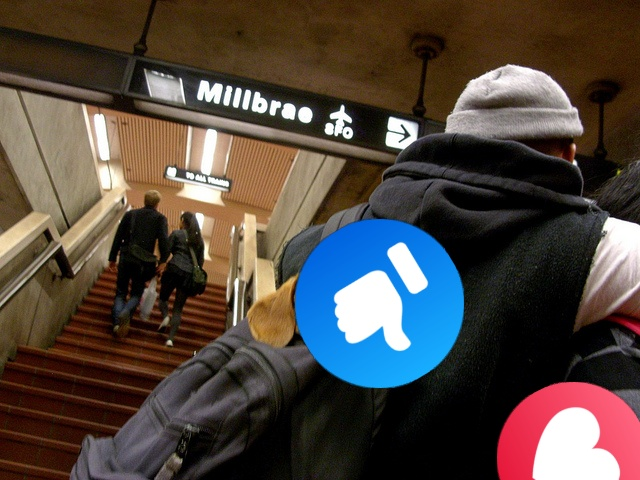like: (295, 219, 464, 388)
love: (497, 382, 640, 480)
